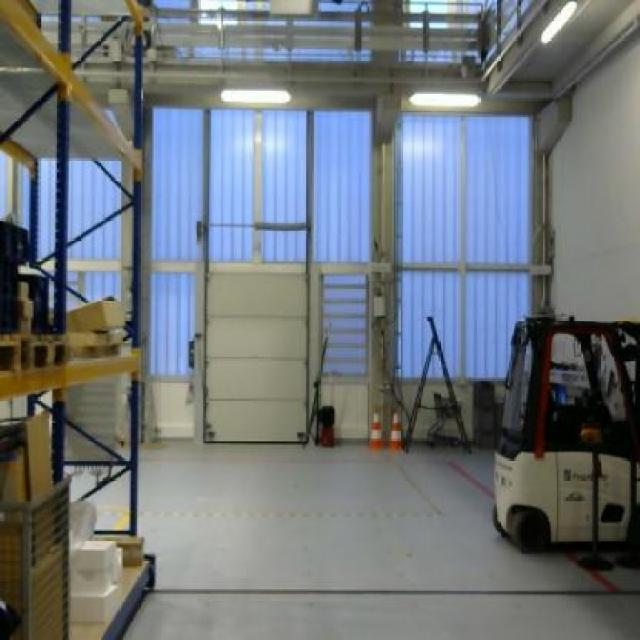box: (64, 293, 124, 332)
